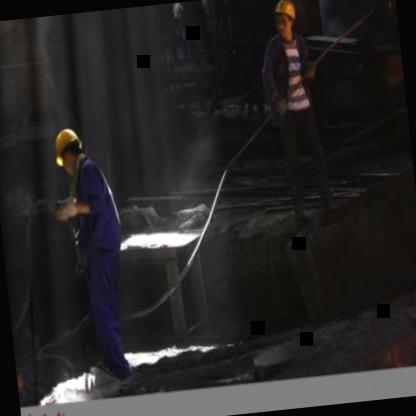helmet: (50, 122, 88, 178), (270, 0, 299, 40)
